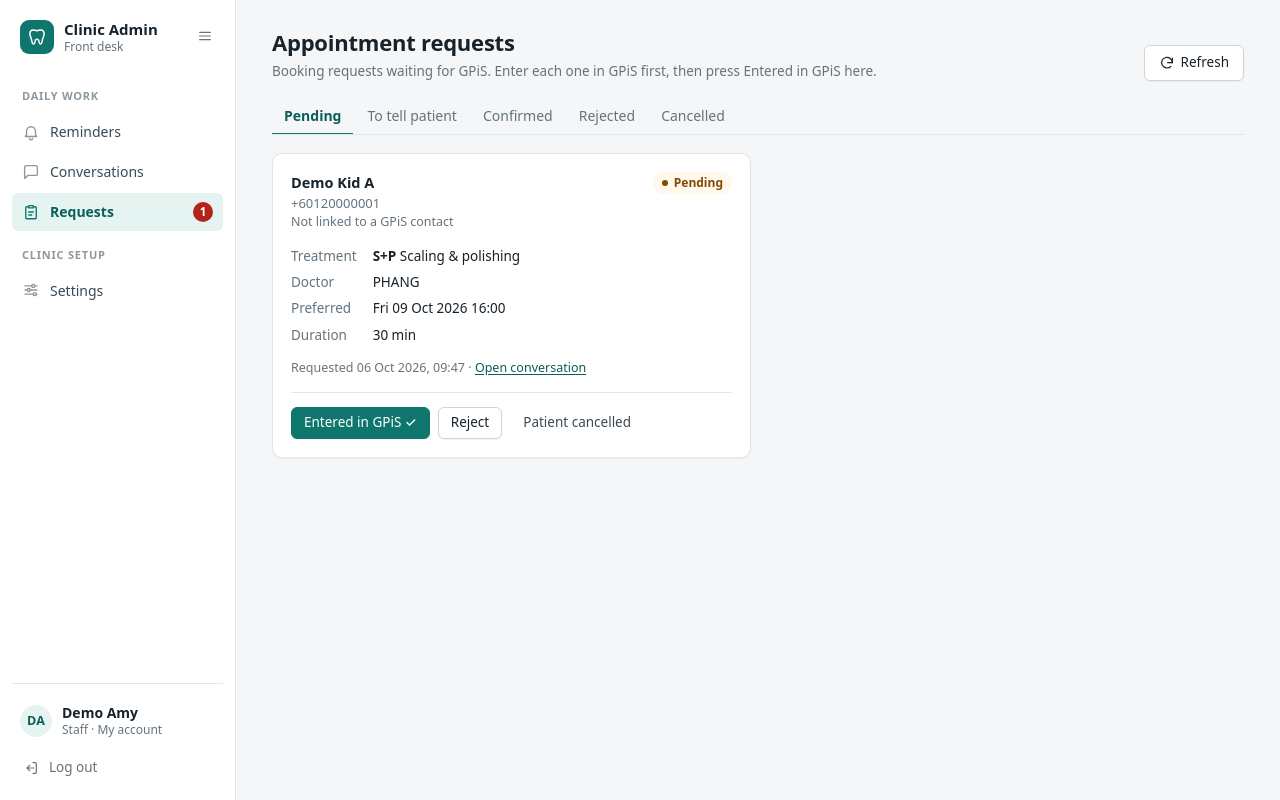
Test: requests › warns when the list comes from GPiS_Dev and shows why the patient was not messaged
Click the button "Entered in GPiS ✓".
click(360, 423)  # box [291,407,430,439]
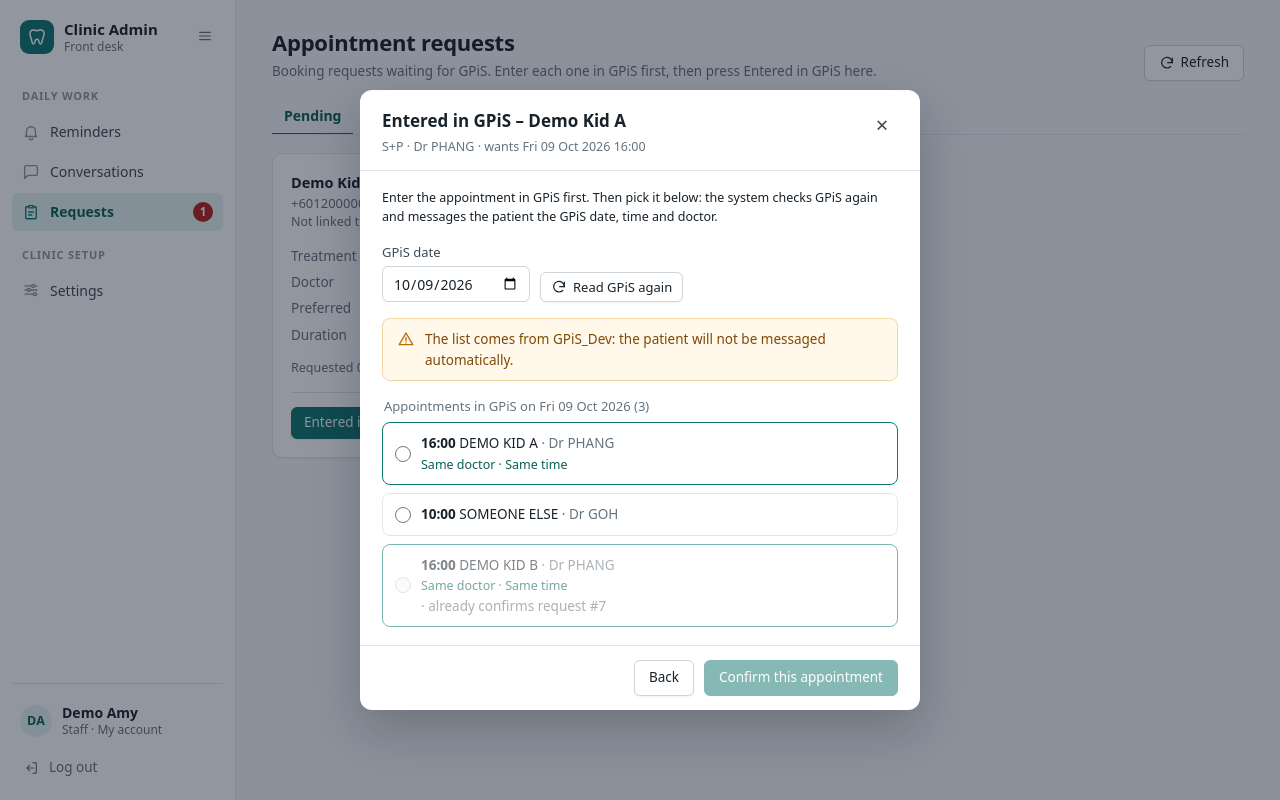
Expected: the text "comes from GPiS_Dev: the patient will not be messaged" is shown, [425,329,883,370]
Click the radio button labelled "16:00 DEMO KID A · Dr PHANG Same doctor · Same time".
click(403, 454)  # box [395,446,411,462]
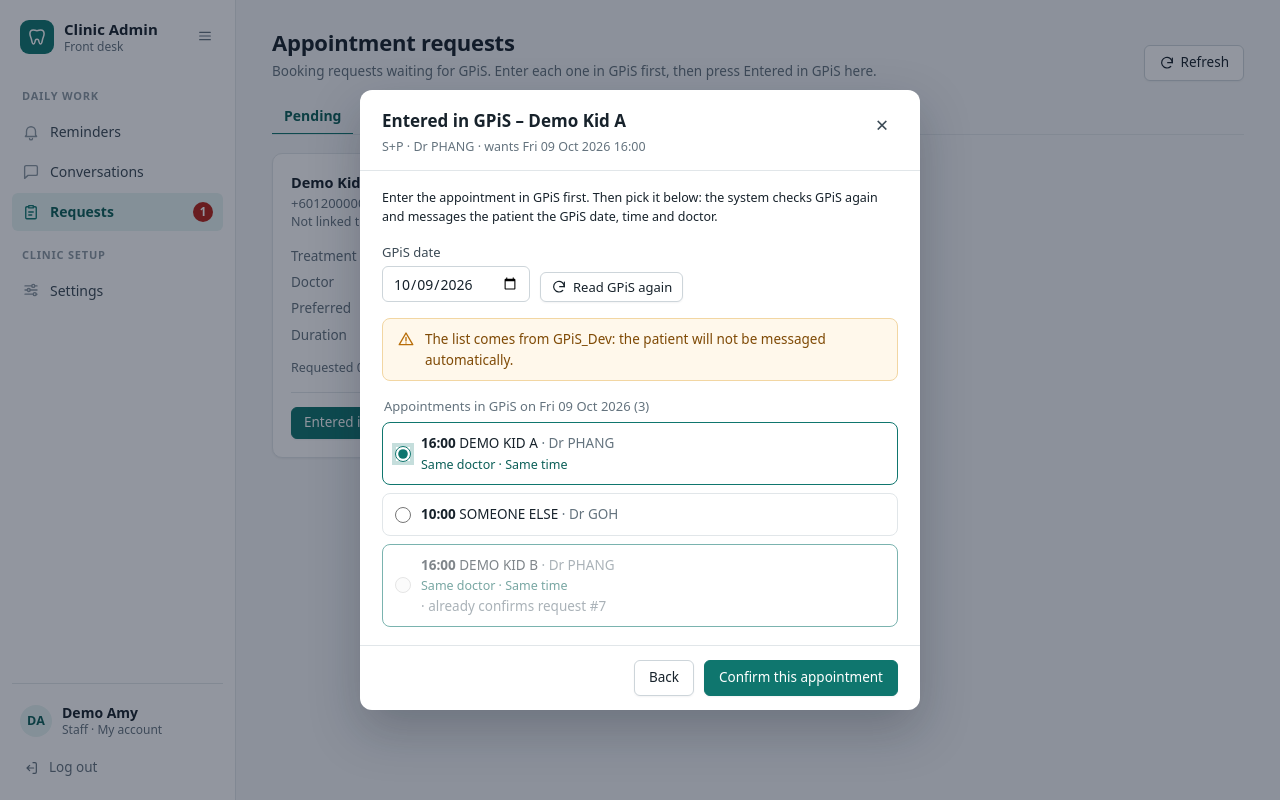
Click the button "Confirm this appointment".
click(801, 678)  # box [704,660,898,696]
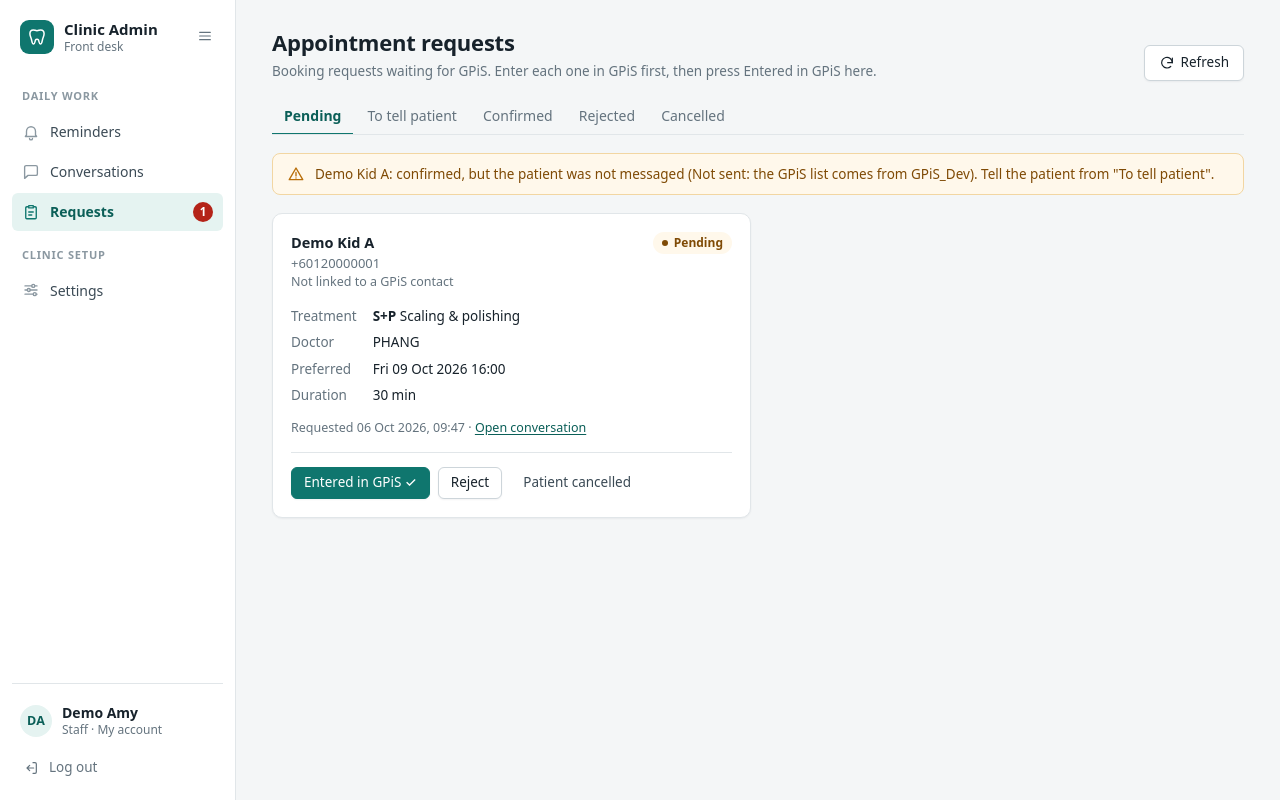
Expected: the text "confirmed, but the patient was not messaged" shows "Not sent: the GPiS list comes from GPiS_Dev", [315,165,1214,183]
